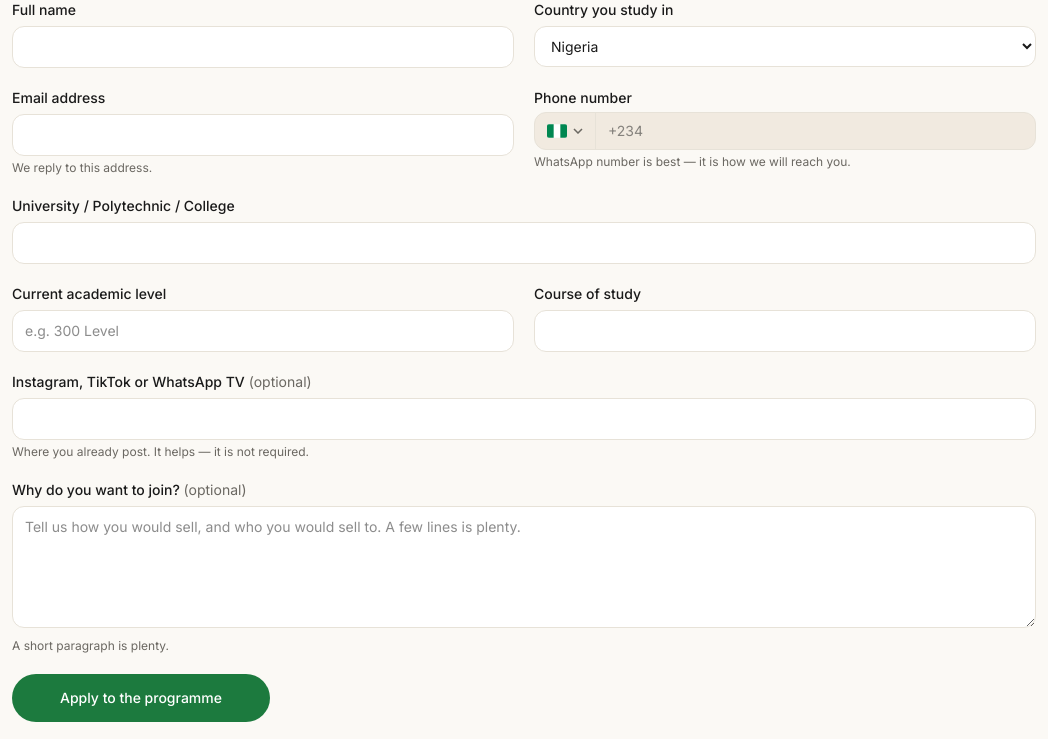
Test case: the application form › keeps what was typed when a field is refused
Type "Chidinma Eze" into the field labelled "Full name" at [263, 47], box 12,26 -> 514,68
Type "chidinma@example.com" into the field labelled "Email address" at [263, 135], box 12,114 -> 514,156
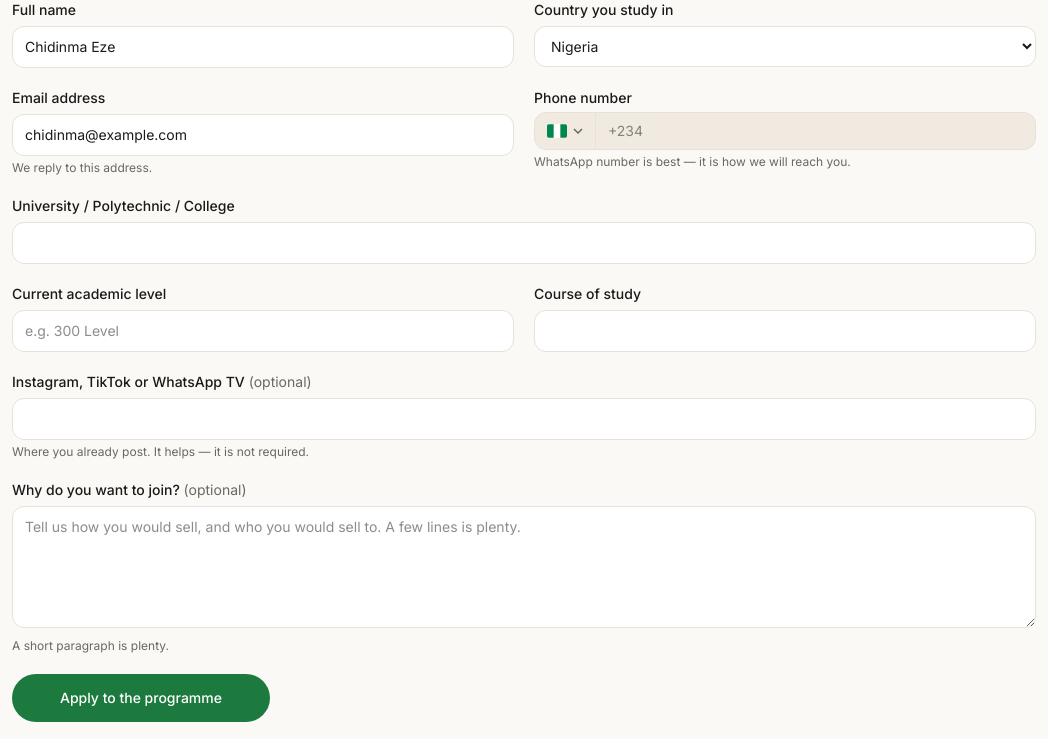
Type "University of Lagos" into the field labelled "University / Polytechnic / College" at [524, 243], box 12,222 -> 1036,264
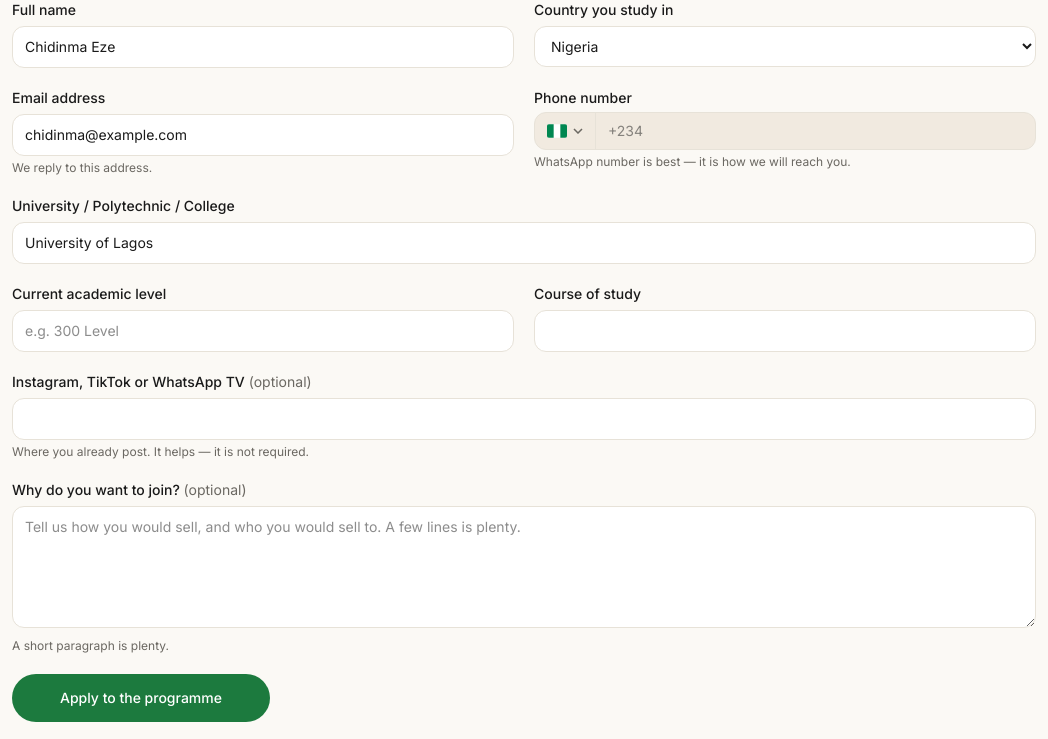
Type "300 Level" into the field labelled "Current academic level" at [263, 331], box 12,310 -> 514,352
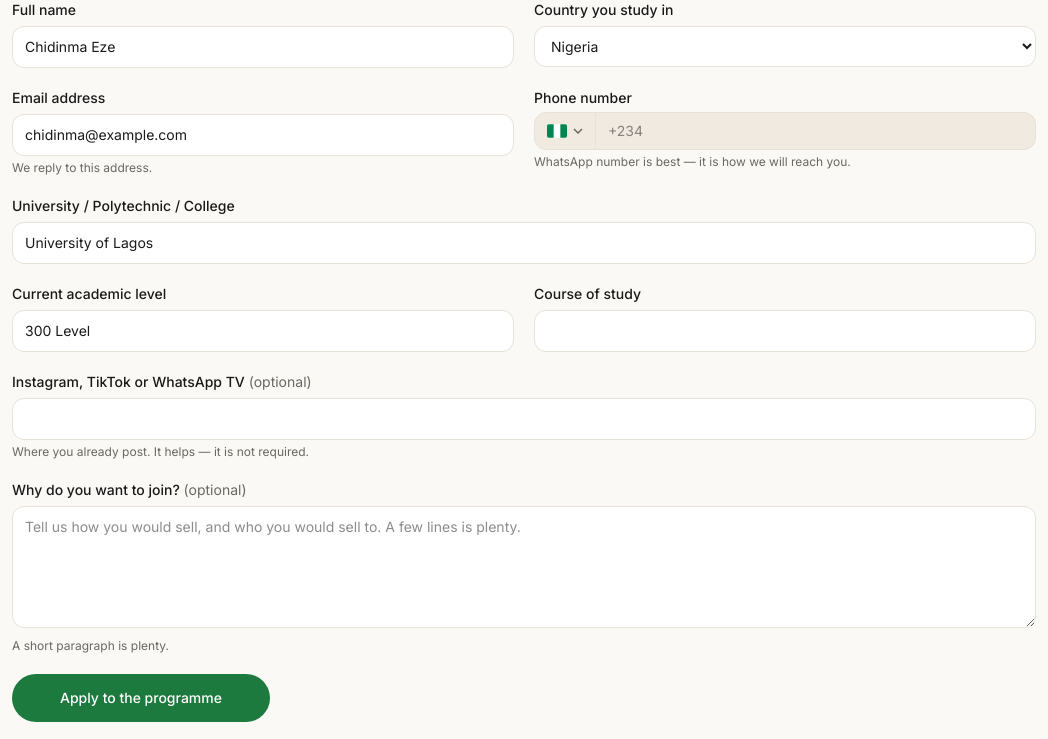
Type "Biochemistry" into the field labelled "Course of study" at [785, 331], box 534,310 -> 1036,352
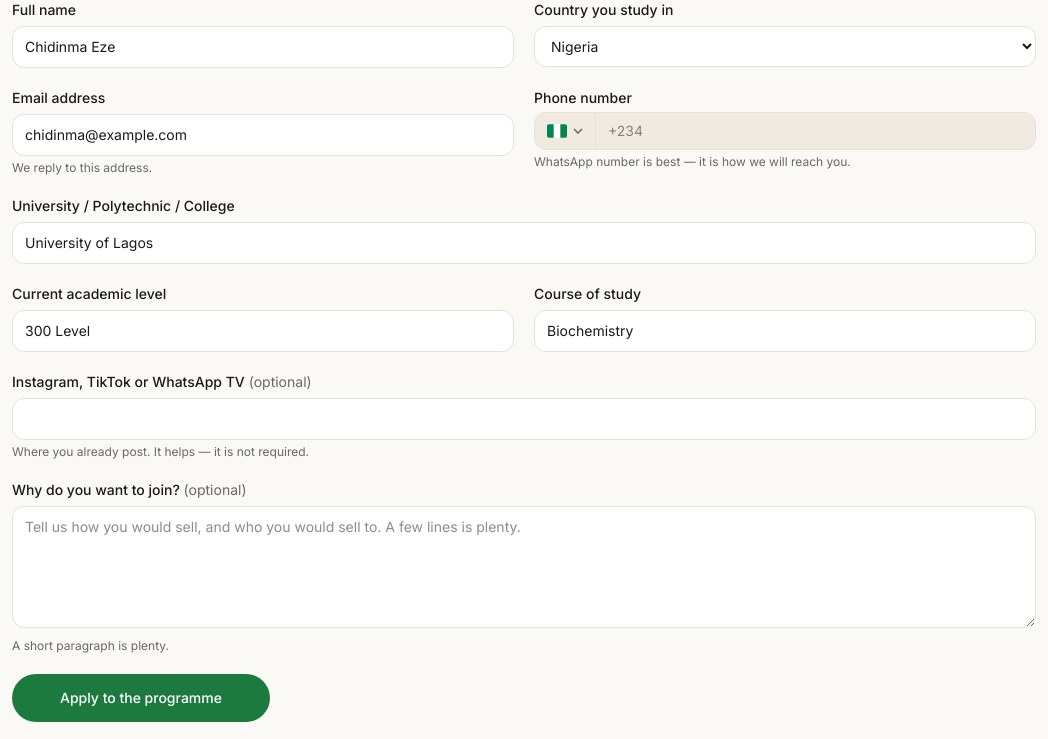
Type "8023900964" into the field labelled "Phone number" at [816, 131], box 596,113 -> 1035,149
(page scrolled)
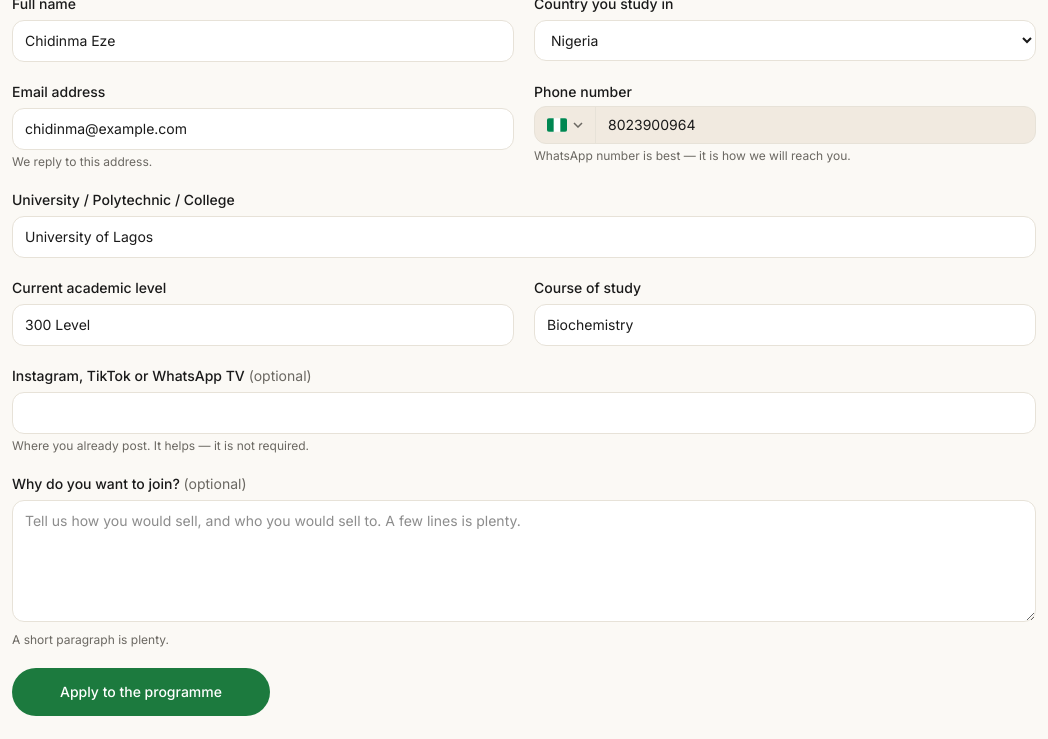
Submit the form named "apply to the programme"
(page scrolled)
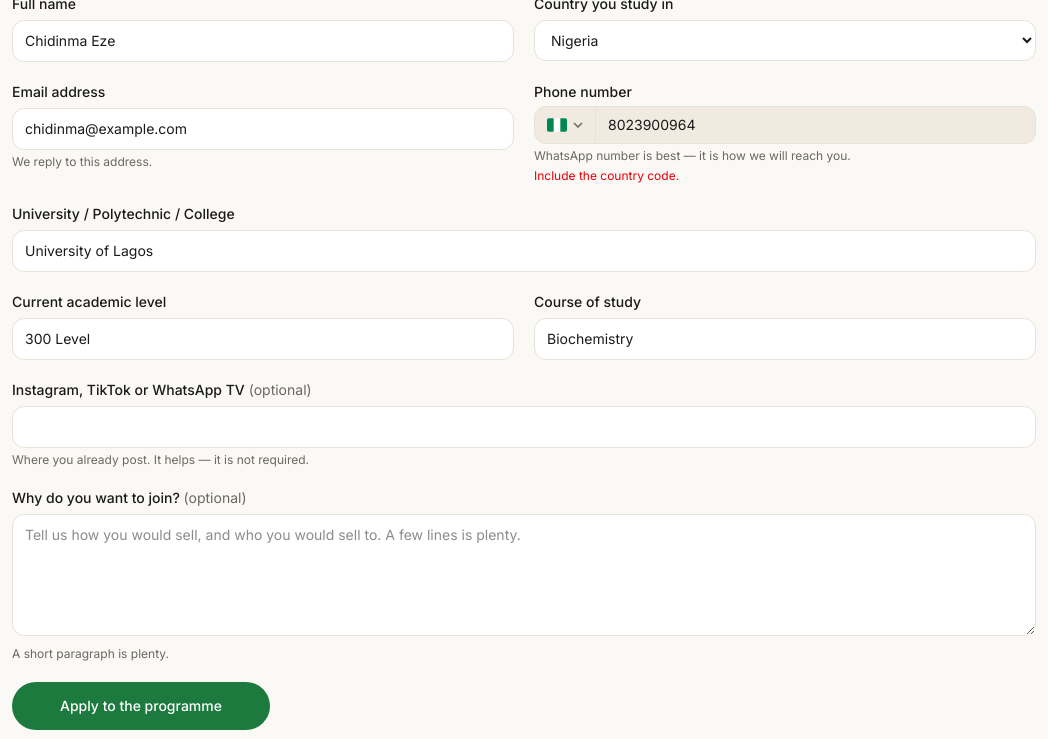
Now the text "Include the country code." is shown, box 534,168 -> 679,183
